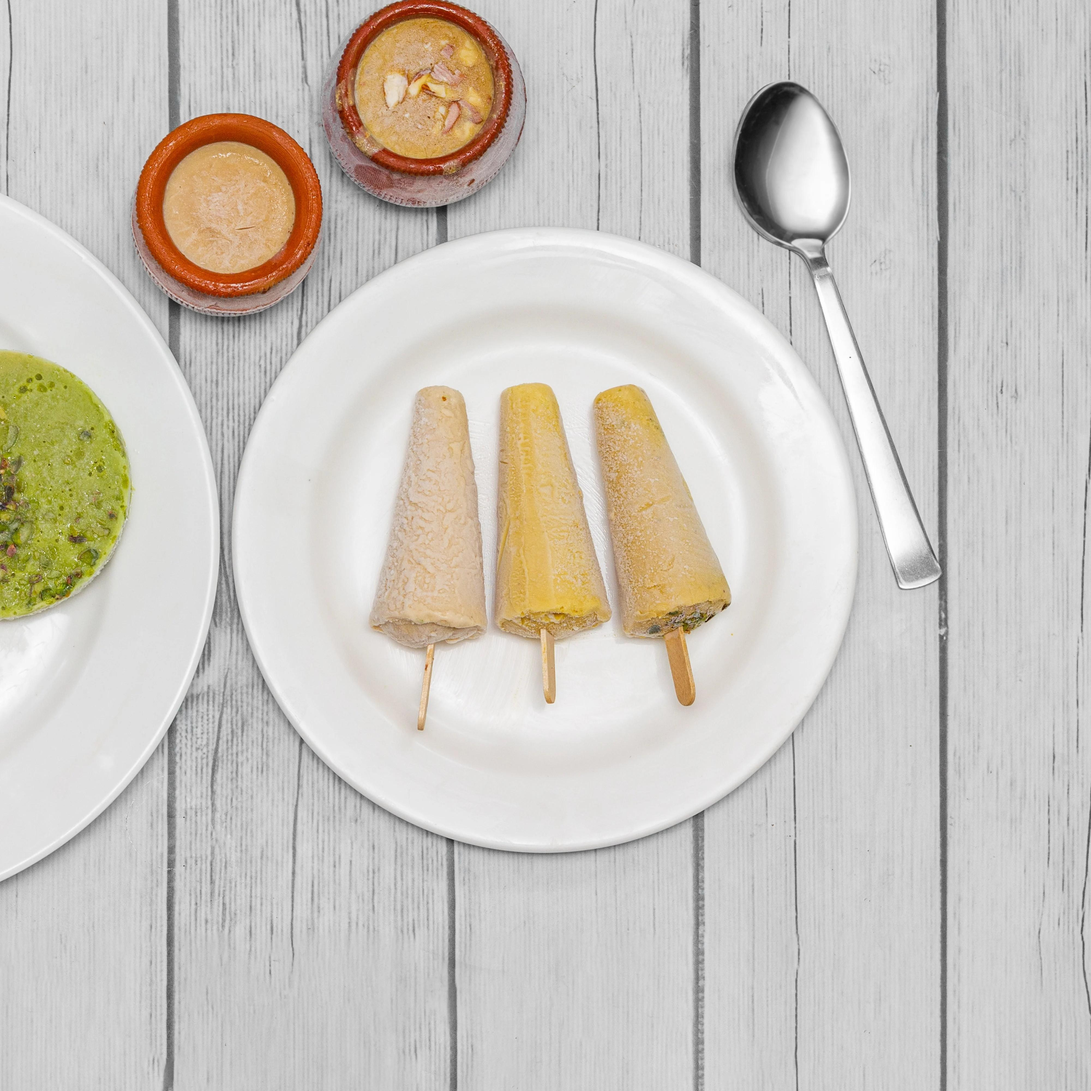Kulfi: (593, 383, 743, 639), (492, 383, 609, 641), (369, 389, 482, 646)
